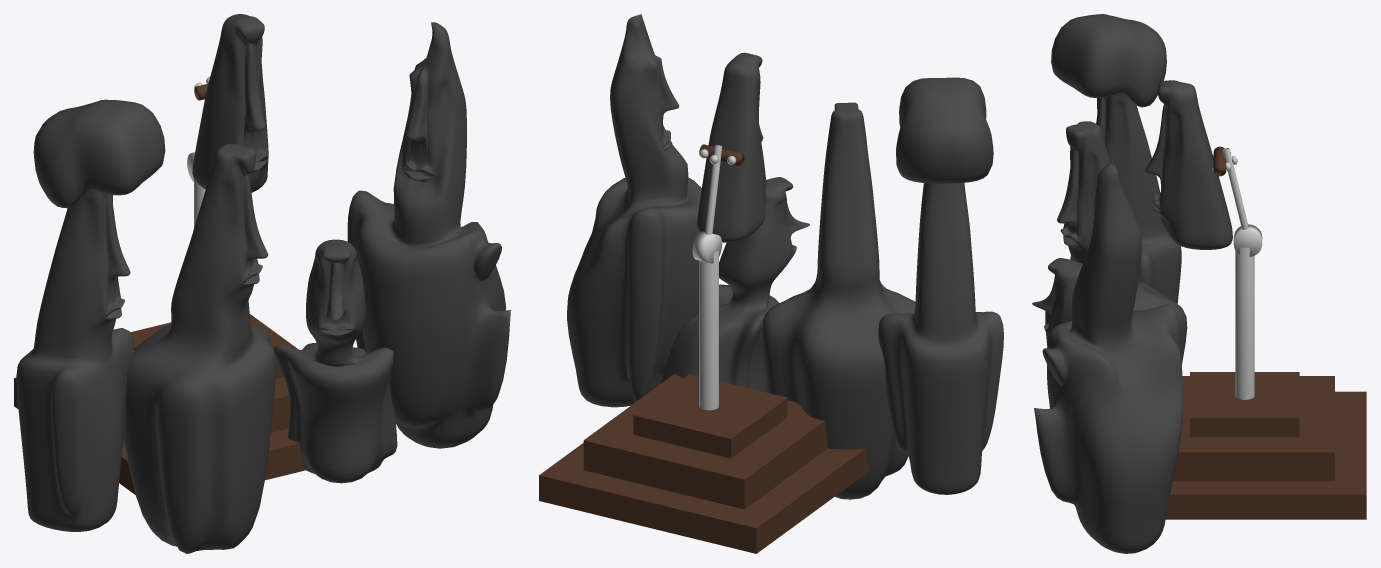
File: Statue.fbx
3 renders of one model, left to right at view 1: azimuth 30°, elevation 25°; view 2: azimuth 150°, elevation 25°; view 3: azimuth 270°, elevation 25°, orthographic. The views are drawn at different scales.
Parts seen in each view (by area): view 1: Plane.002, Plane.001, Plane.004, Plane.003, Plane, Cube.002; view 2: Cube.002, Plane.001, Plane.004, Plane.002, Plane.003, Plane, Cylinder, Cylinder.003, Cylinder.002; view 3: Plane.004, Cube.002, Plane.001, Plane, Plane.002, Cylinder, Plane.003, Cylinder.003, Cylinder.002.
Part boxes in pixels (x1,y1,x2,y2): Plane.002: (124, 144, 276, 553); Plane.001: (16, 99, 165, 531); Plane.004: (347, 22, 510, 448); Plane.003: (274, 239, 397, 483); Plane: (192, 14, 268, 192); Cube.002: (14, 314, 305, 494); Cube.002: (539, 373, 869, 553); Plane.001: (878, 77, 1003, 494); Plane.004: (567, 14, 701, 407); Plane.002: (762, 102, 915, 499); Plane.003: (661, 177, 809, 392); Plane: (697, 52, 765, 242); Cylinder: (699, 250, 718, 410); Cylinder.003: (692, 231, 722, 263); Cylinder.002: (705, 145, 722, 234); Plane.004: (1034, 161, 1183, 553); Cube.002: (1165, 372, 1366, 519); Plane.001: (1051, 14, 1181, 303); Plane: (1145, 80, 1232, 249); Plane.002: (1045, 121, 1187, 363); Cylinder: (1235, 247, 1254, 399); Plane.003: (1032, 258, 1082, 335); Cylinder.003: (1233, 224, 1262, 256); Cylinder.002: (1223, 148, 1248, 229).
Size of the model in its own units: 389 by 384 by 275.
